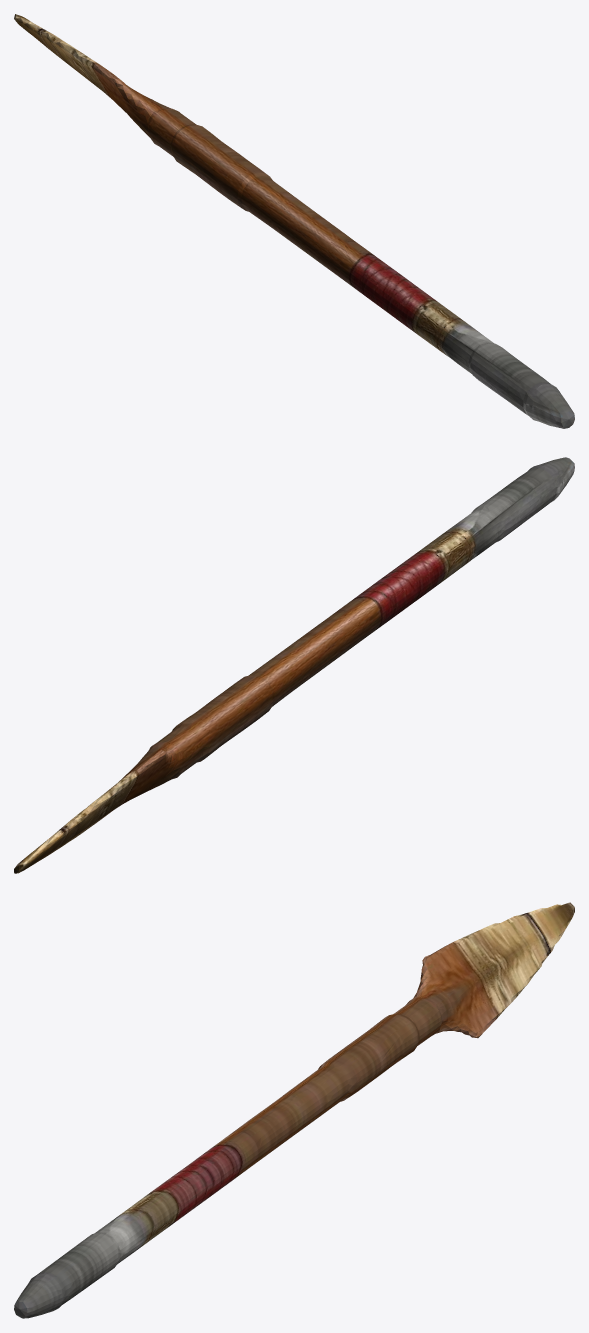
Rendered from spear.glb.
3 renders of one model, top to bottom at view 1: azimuth 30°, elevation 25°; view 2: azimuth 150°, elevation 25°; view 3: azimuth 330°, elevation 25°, orthographic.
Parts seen in each view (by area): view 1: geometry_0; view 2: geometry_0; view 3: geometry_0.
Boxes of the visible parts, x1,y1,x2,y2 form: geometry_0: (14, 14, 574, 428); geometry_0: (14, 457, 574, 873); geometry_0: (14, 902, 574, 1318).
Bounding box in the file's own units: 0.1159 × 0.1367 × 1.99.
1 material, 1 textured.
